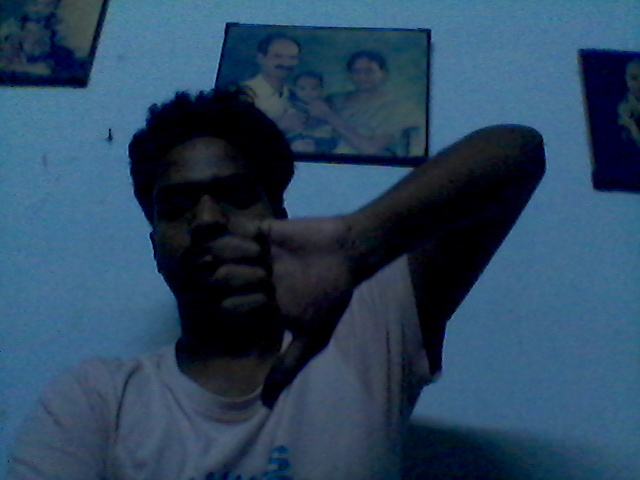Please: (210, 210, 371, 424)
